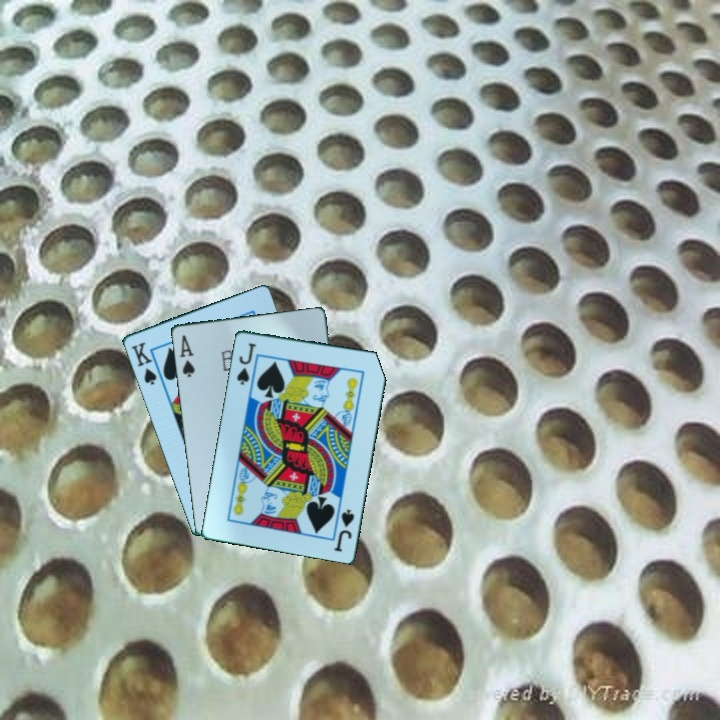As: (176, 331, 197, 380)
Js: (331, 505, 357, 554), (233, 339, 258, 387)
Ks: (127, 338, 159, 388)
